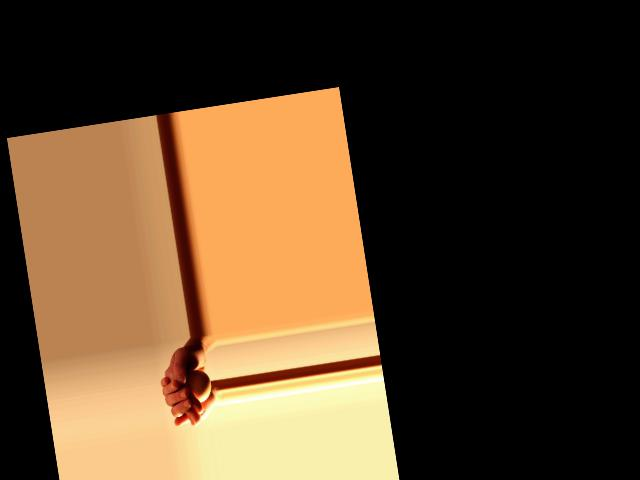egg: (186, 367, 213, 403)
